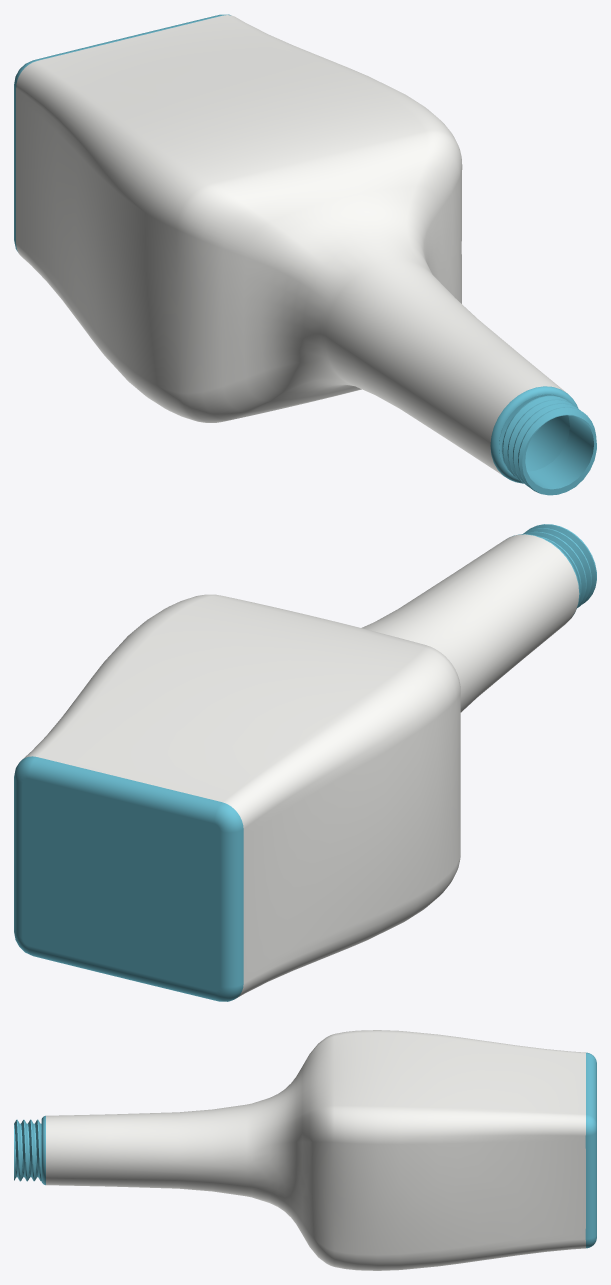
Rendered from Day4 complex glass bottle.obj.
3 renders of one model, top to bottom at view 1: azimuth 30°, elevation 25°; view 2: azimuth 150°, elevation 25°; view 3: azimuth 270°, elevation 25°, orthographic. The views are drawn at different scales.
Parts seen in each view (by area): view 1: Body1; view 2: Body1; view 3: Body1.
Part boxes in pixels (x1,y1,x2,y2): Body1: [14, 14, 596, 495]; Body1: [14, 524, 596, 1001]; Body1: [14, 1030, 596, 1270].
Bounding box in the file's own units: 10.24 × 7.83 × 25.3.
